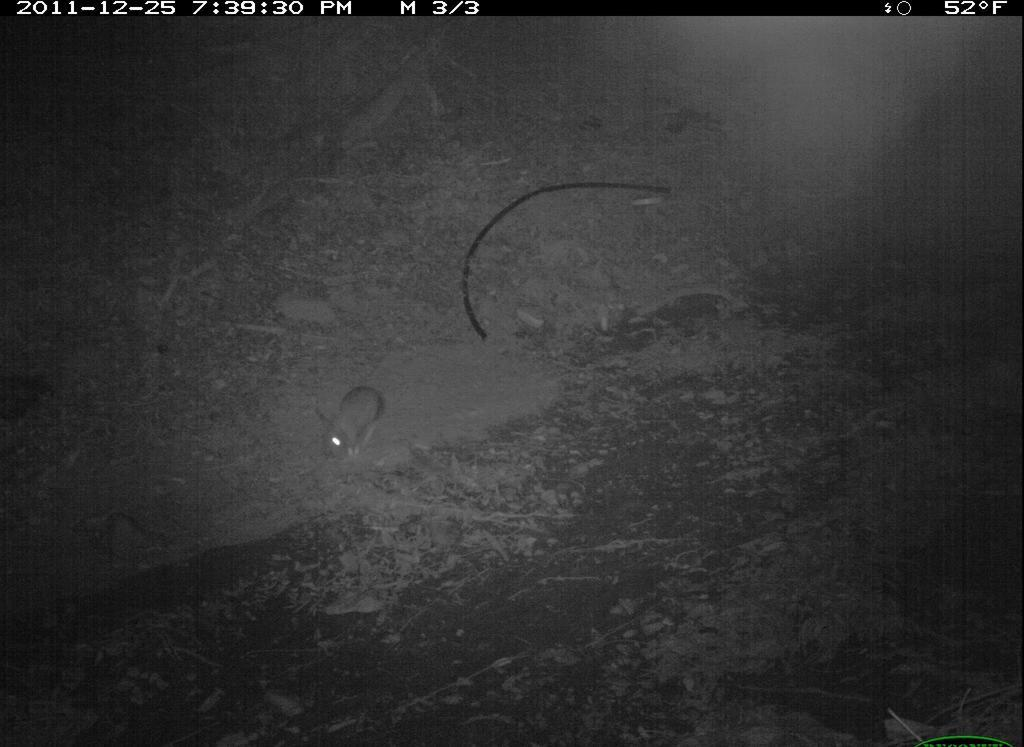rabbit: (299, 377, 391, 465)
